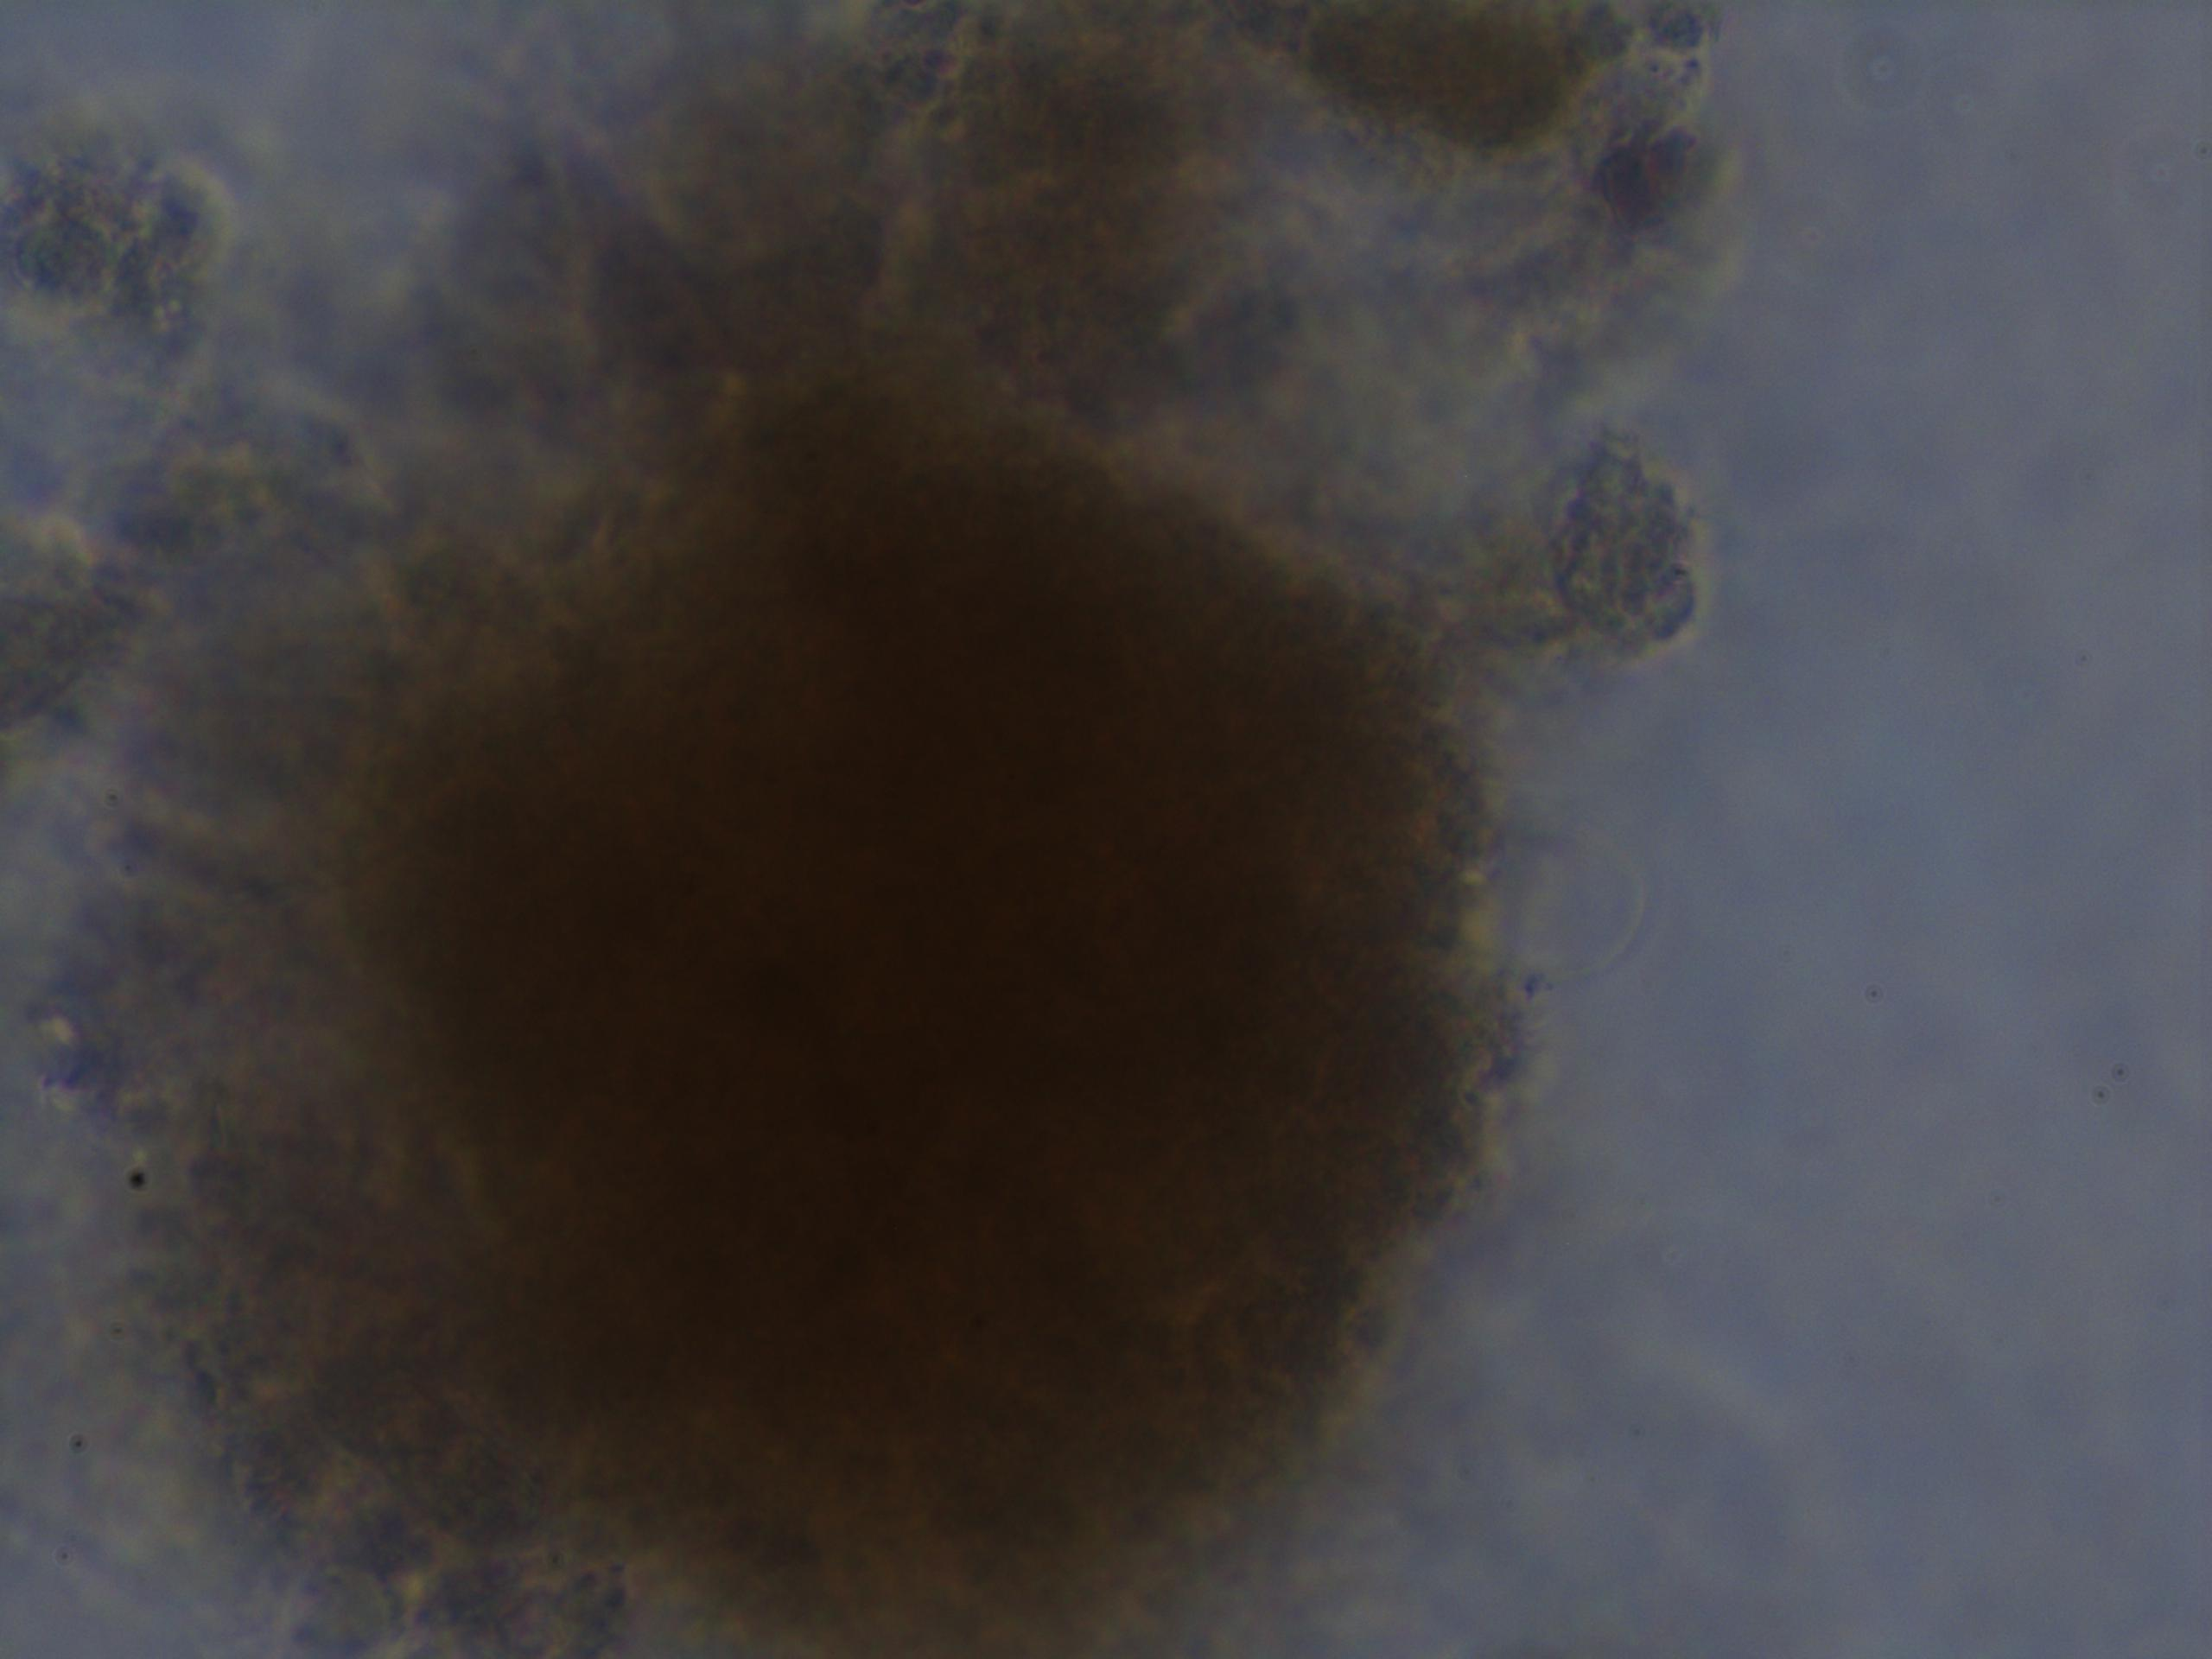spherical_floc: (221, 399, 1500, 1659)
